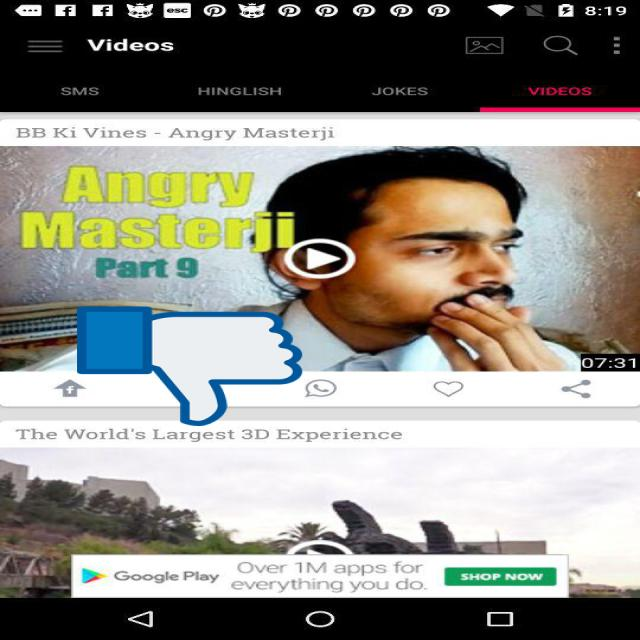obstruction: (77, 304, 302, 429)
